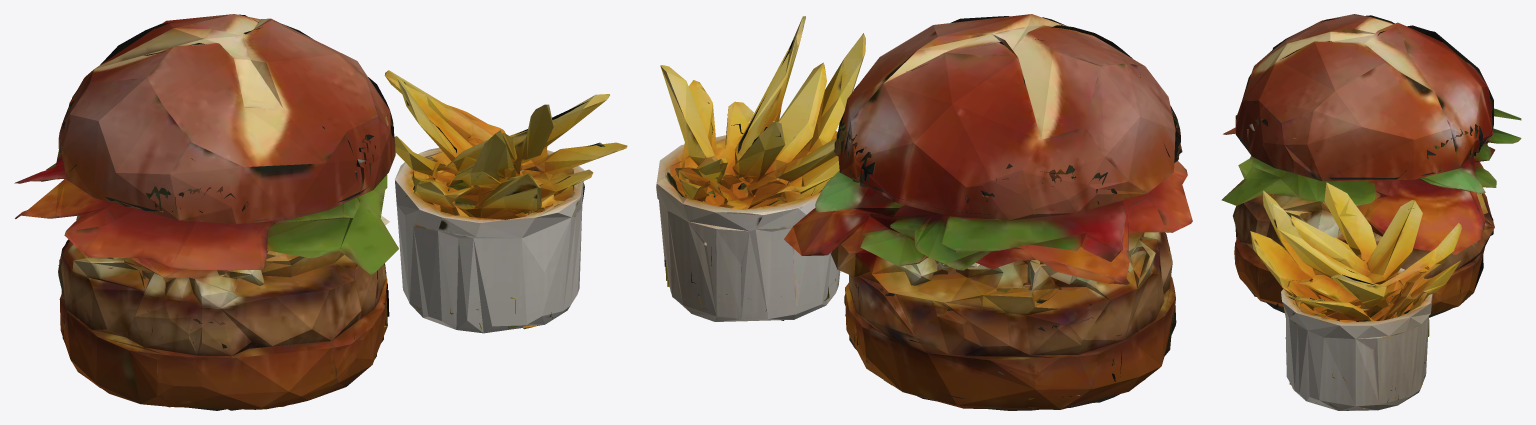
The model's file is p_burger.glb.
3 renders of one model, left to right at view 1: azimuth 30°, elevation 25°; view 2: azimuth 150°, elevation 25°; view 3: azimuth 270°, elevation 25°, orthographic. The views are drawn at different scales.
Parts seen in each view (by area): view 1: geometry_0 (×2); view 2: geometry_0 (×2); view 3: geometry_0 (×2).
Boxes of the visible parts, bbox=[...] form: geometry_0 (×2): bbox=[14, 14, 627, 410]; geometry_0 (×2): bbox=[656, 14, 1192, 410]; geometry_0 (×2): bbox=[1221, 14, 1521, 410].
Bounding box in the file's own units: 1.7 × 0.9928 × 1.07.
2 materials, 2 textured.
